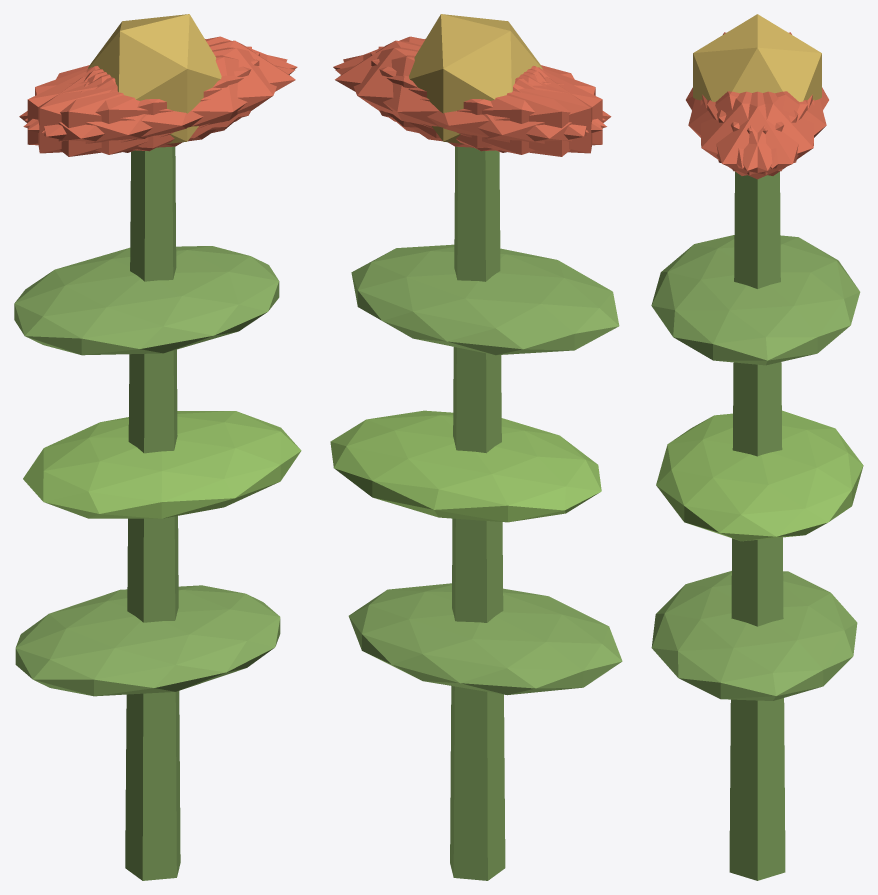
File: merremia-gemella.glb
The picture shows the model from 3 angles, left to right: view 1: azimuth 30°, elevation 25°; view 2: azimuth 150°, elevation 25°; view 3: azimuth 270°, elevation 25°; orthographic projection.
Parts seen in each view (by area): view 1: stem, leaf2, leaf0, leaf1, center, petal1, petal6, petal2, petal5, petal7, petal0, petal4 (+2 smaller); view 2: stem, leaf1, leaf2, leaf0, center, petal8, petal3, petal7, petal4, petal2, petal0, petal5 (+2 smaller); view 3: stem, leaf1, leaf2, leaf0, center, petal0, petal4, petal5, petal1, petal8.
Part boxes in pixels (x1=…): stem: x1=125, y1=146, x2=180, y2=880; leaf2: x1=14, y1=246, x2=279, y2=355; leaf0: x1=15, y1=585, x2=280, y2=696; leaf1: x1=23, y1=411, x2=301, y2=518; center: x1=87, y1=14, x2=221, y2=143; petal1: x1=23, y1=55, x2=294, y2=154; petal6: x1=19, y1=67, x2=215, y2=156; petal2: x1=38, y1=46, x2=251, y2=153; petal5: x1=42, y1=47, x2=287, y2=148; petal7: x1=27, y1=52, x2=259, y2=151; petal0: x1=87, y1=40, x2=295, y2=138; petal4: x1=25, y1=36, x2=297, y2=130; stem: x1=450, y1=146, x2=505, y2=880; leaf1: x1=330, y1=410, x2=601, y2=522; leaf2: x1=351, y1=244, x2=619, y2=355; leaf0: x1=348, y1=583, x2=622, y2=695; center: x1=409, y1=14, x2=542, y2=143; petal8: x1=335, y1=55, x2=606, y2=154; petal3: x1=414, y1=67, x2=611, y2=156; petal7: x1=378, y1=46, x2=592, y2=153; petal4: x1=343, y1=47, x2=588, y2=148; petal2: x1=370, y1=52, x2=602, y2=151; petal0: x1=335, y1=40, x2=542, y2=138; petal5: x1=333, y1=36, x2=605, y2=130; stem: x1=729, y1=171, x2=785, y2=880; leaf1: x1=656, y1=410, x2=863, y2=541; leaf2: x1=651, y1=235, x2=860, y2=365; leaf0: x1=651, y1=571, x2=857, y2=700; center: x1=693, y1=14, x2=821, y2=101; petal0: x1=702, y1=91, x2=812, y2=179; petal4: x1=707, y1=91, x2=814, y2=175; petal5: x1=700, y1=91, x2=807, y2=175; petal1: x1=688, y1=91, x2=798, y2=168; petal8: x1=716, y1=91, x2=826, y2=168.
Bounding box in the file's own units: 0.1493 × 0.4396 × 0.1009.
